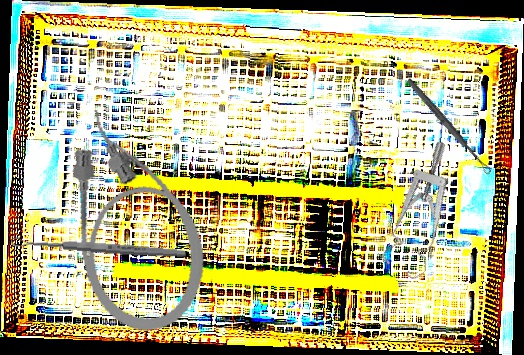Cannula: (55, 95, 217, 342)
Speculum: (355, 139, 497, 287)
Surgical Spoon: (404, 76, 494, 177), (10, 235, 187, 260)
